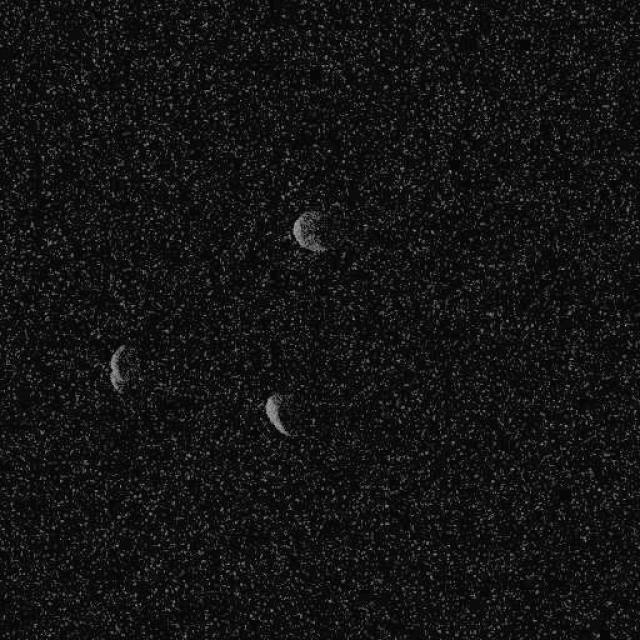D2: (290, 208, 329, 254), (264, 392, 294, 438), (108, 342, 130, 392)
